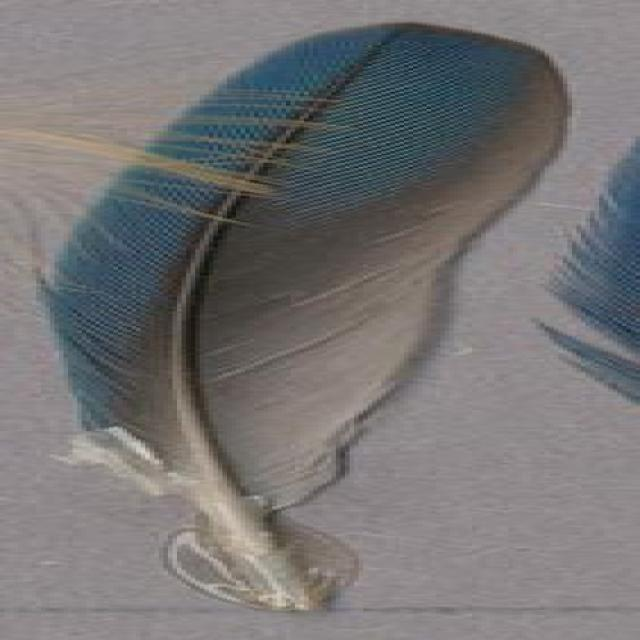feather: (40, 21, 570, 610)
